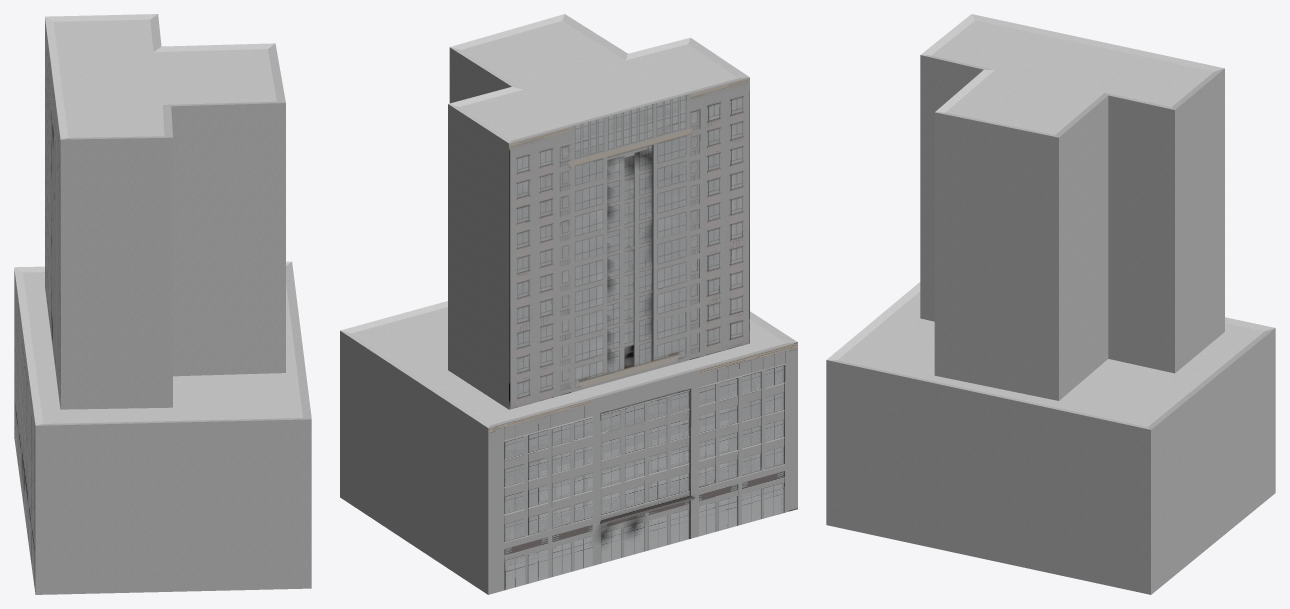
File: shiyanlou3.gltf
3 renders of one model, left to right at view 1: azimuth 30°, elevation 25°; view 2: azimuth 150°, elevation 25°; view 3: azimuth 270°, elevation 25°, orthographic. The views are drawn at different scales.
Visible parts, largest first — view 1: Line3117651; view 2: Line3117651; view 3: Line3117651.
Boxes of the visible parts, x1,y1,x2,y2 form: Line3117651: [14, 14, 311, 594]; Line3117651: [340, 14, 797, 594]; Line3117651: [826, 14, 1275, 594].
Bounding box in the file's own units: 303 × 351 × 335.
3 materials, 3 textured.
